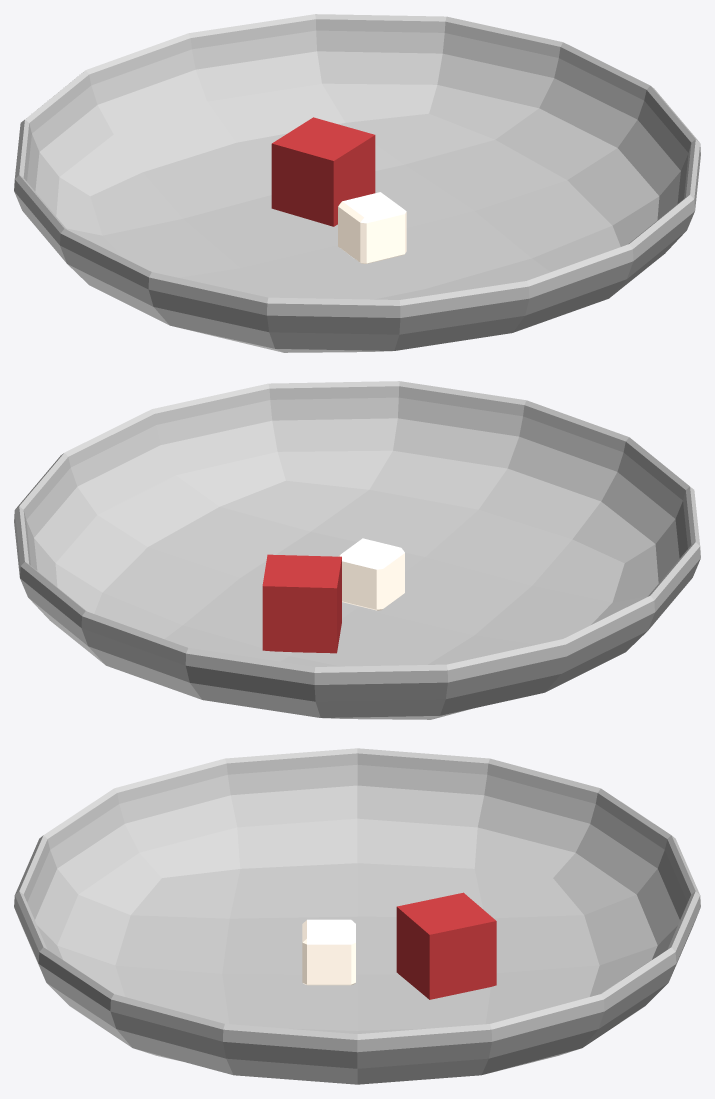
File: bowlandscene.fbx
The picture shows the model from 3 angles, top to bottom: view 1: azimuth 30°, elevation 25°; view 2: azimuth 150°, elevation 25°; view 3: azimuth 270°, elevation 25°; orthographic projection.
Parts seen in each view (by area): view 1: Plane, Cube.001, Cube; view 2: Plane, Cube.001, Cube; view 3: Plane, Cube.001, Cube.
Boxes of the visible parts, bbox=[...] form: Plane: bbox=[14, 14, 700, 352]; Cube.001: bbox=[271, 117, 375, 226]; Cube: bbox=[338, 192, 406, 263]; Plane: bbox=[14, 381, 700, 719]; Cube.001: bbox=[262, 554, 341, 653]; Cube: bbox=[338, 538, 404, 610]; Plane: bbox=[14, 748, 700, 1084]; Cube.001: bbox=[396, 892, 496, 999]; Cube: bbox=[302, 919, 355, 985].
Size of what is drawn, in the model's own units: 200 by 30.92 by 200.
